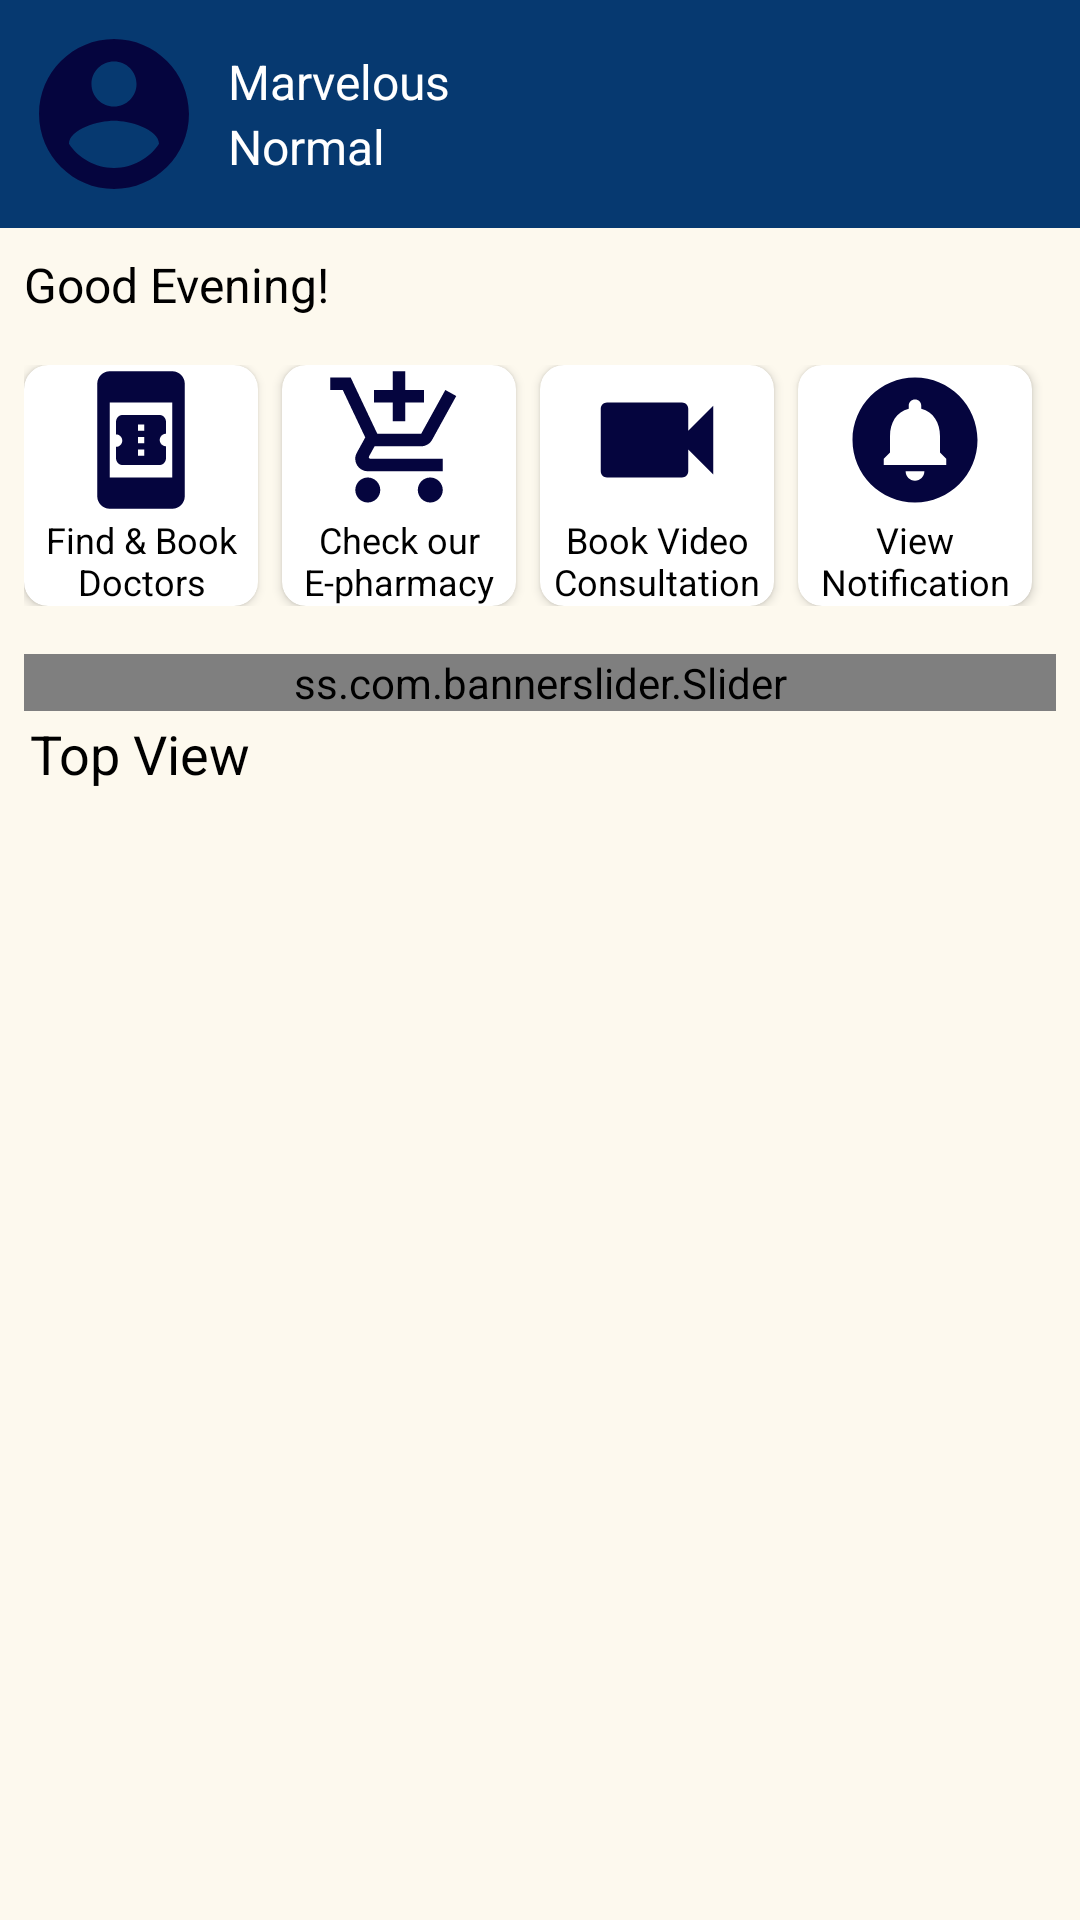

Named icons in this screenshot (1080x1920) and their centers, [x,y]:
account circle: [114,114]
book appointment online: [141,440]
book videocam: [657,440]
cart: [393,437]
notifications: [915,440]
